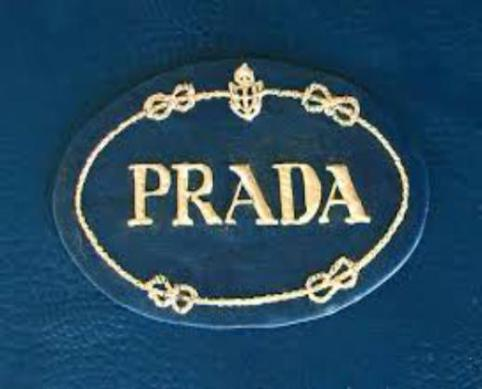PRADA: (127, 149, 370, 230)
